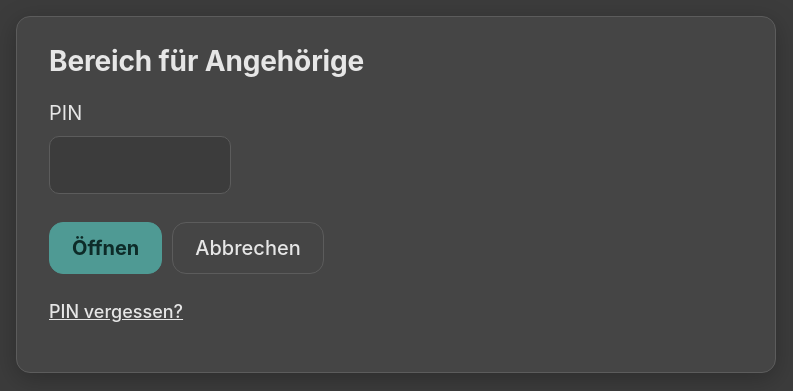
Test: PinScreen: PIN vergessen › öffnet die Rückfrage; „PIN löschen“ erst mit dem richtigen Wort frei
Later steps or results of the test are not shown.
Click the button "PIN vergessen?": {"x": 116, "y": 312} [49,290,183,334]
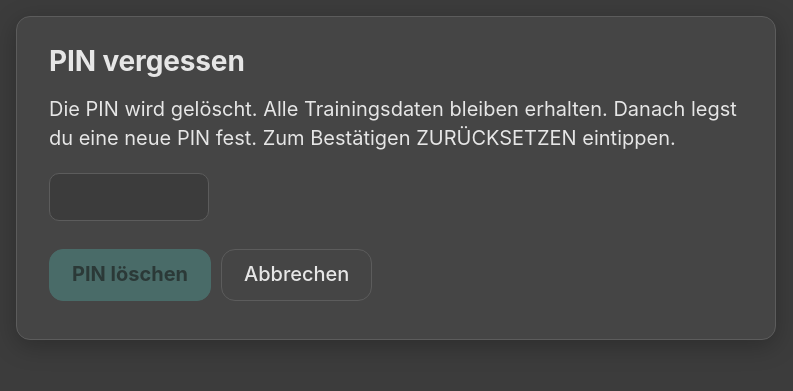
Now the text "Die PIN wird gelöscht. Alle Trainingsdaten bleiben erhalten. Danach legst du eine neue PIN fest. Zum Bestätigen ZURÜCKSETZEN eintippen." is shown, box [49,95,743,153]
Now the button "PIN löschen" is disabled, box [49,249,211,301]
In the field named "Bestätigung": {"x": 129, "y": 197} [49,173,209,221], type "zurücksetzen!"
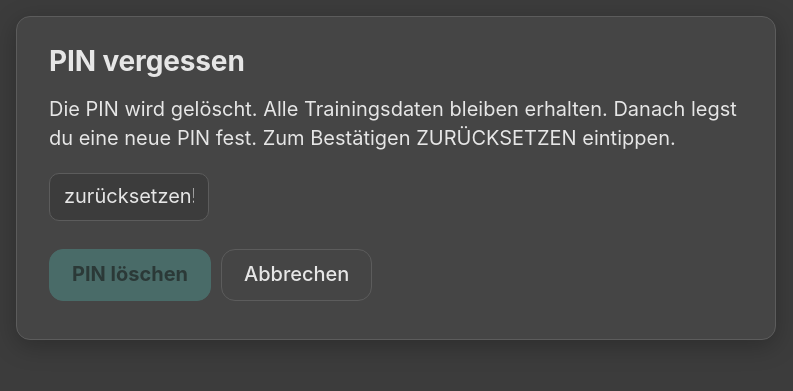
Now the button "PIN löschen" is disabled, box [49,249,211,301]
